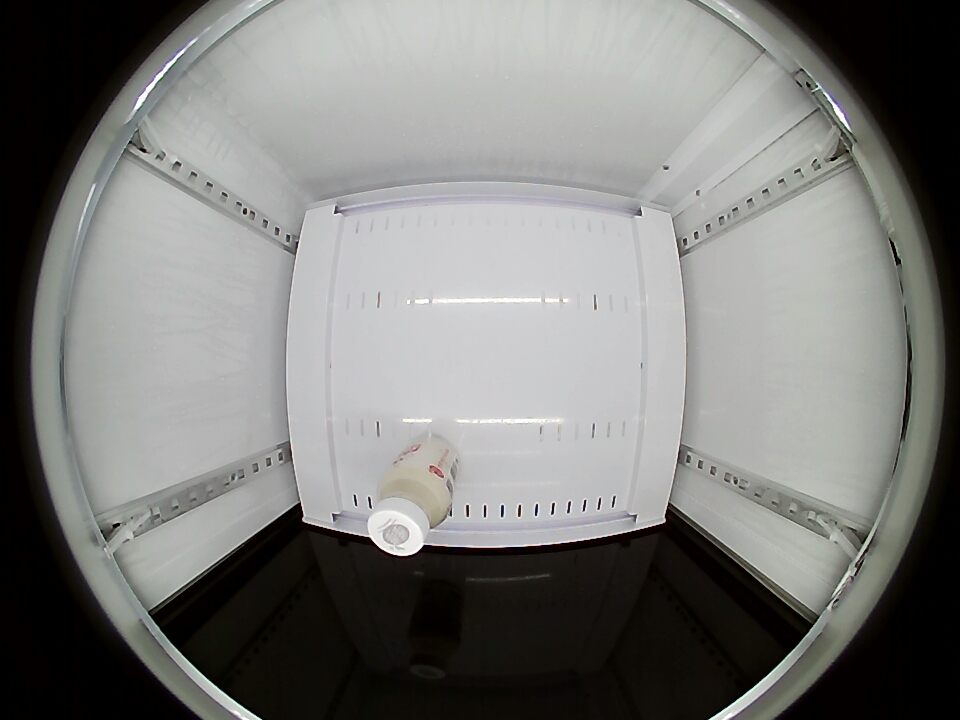weiweidounai: (367, 465, 453, 557)
